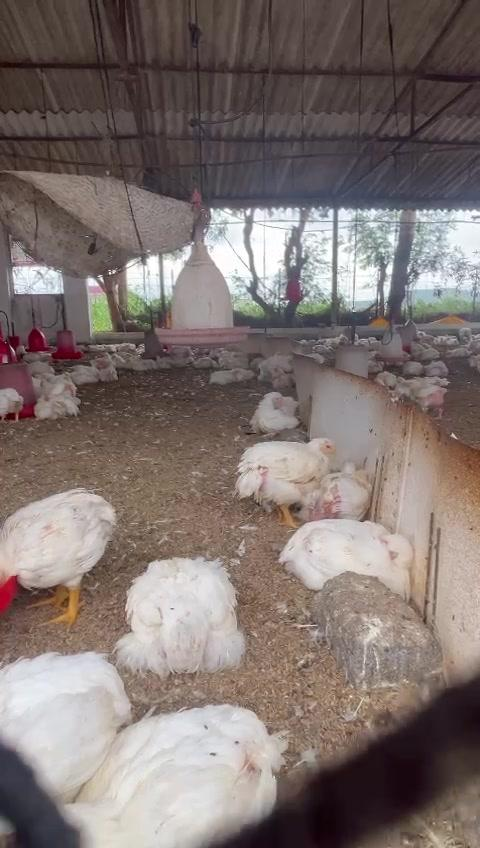AbNormal: (49, 704, 277, 848), (0, 649, 130, 821), (121, 559, 244, 676), (285, 519, 411, 605), (309, 460, 375, 521), (250, 390, 300, 438), (35, 390, 81, 416), (38, 372, 77, 393), (212, 363, 248, 383), (262, 365, 294, 386), (248, 362, 251, 363)
Normal: (0, 489, 120, 631), (0, 388, 26, 423)
